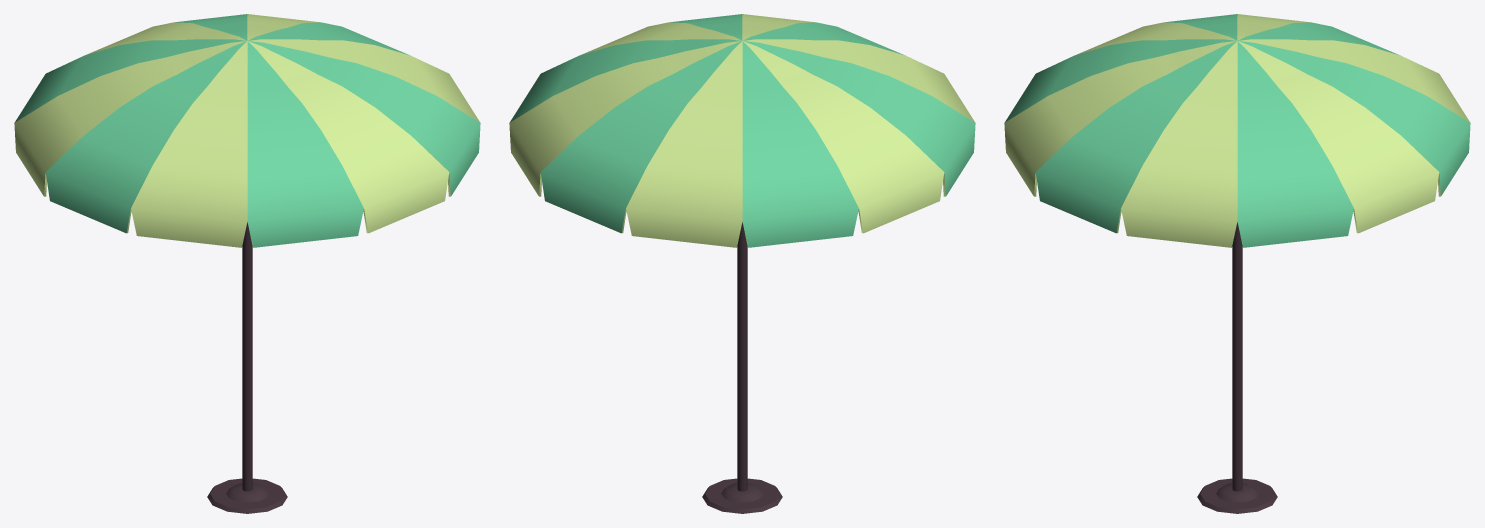
The model's file is guardasol.fbx.
3 renders of one model, left to right at view 1: azimuth 30°, elevation 25°; view 2: azimuth 150°, elevation 25°; view 3: azimuth 270°, elevation 25°, orthographic.
Visible parts, largest first — view 1: guardasol; view 2: guardasol; view 3: guardasol.
Boxes of the visible parts, x1=… form: guardasol: x1=14, y1=14, x2=480, y2=513; guardasol: x1=509, y1=14, x2=975, y2=513; guardasol: x1=1004, y1=14, x2=1470, y2=513.
Size of the model in its own units: 163 by 176 by 163.
